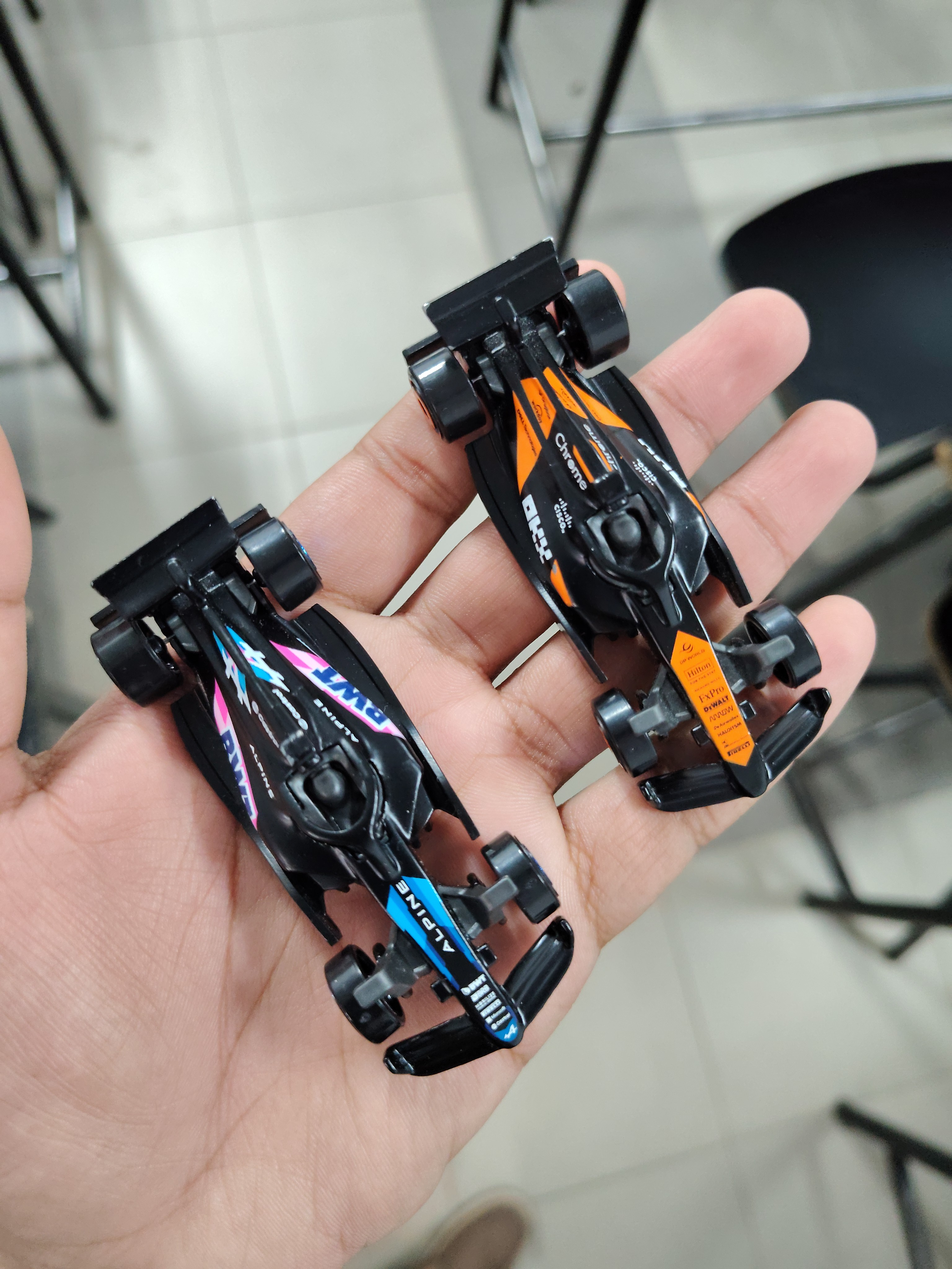Alpine A524: (20, 438, 559, 1039)
McLaren MCL40: (299, 218, 942, 782)
